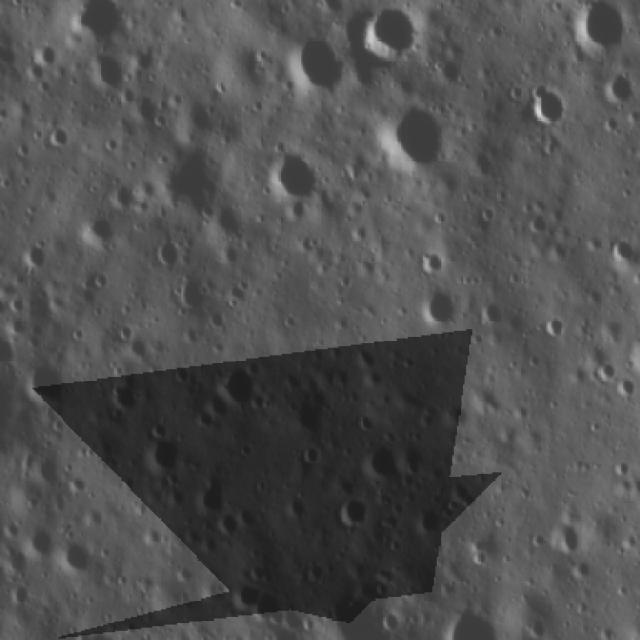crater: (144, 138, 233, 218), (372, 100, 451, 180), (258, 140, 330, 206), (359, 4, 430, 67), (284, 36, 353, 96), (210, 38, 265, 112), (568, 0, 630, 57), (22, 356, 78, 415), (523, 74, 579, 132), (70, 2, 139, 43), (210, 358, 262, 412), (138, 431, 190, 482), (82, 50, 136, 96), (277, 387, 325, 438), (416, 286, 462, 332), (105, 377, 153, 420), (357, 442, 406, 484), (252, 584, 294, 633), (191, 470, 231, 521), (54, 533, 94, 584), (328, 490, 370, 536), (20, 519, 58, 564), (78, 215, 119, 256), (445, 470, 480, 518), (167, 270, 207, 312), (146, 236, 191, 273), (543, 520, 582, 562), (351, 568, 394, 606), (598, 67, 636, 107), (408, 497, 442, 540), (15, 240, 52, 277), (598, 231, 637, 266), (35, 448, 67, 490), (412, 243, 451, 277), (228, 576, 263, 613), (125, 41, 158, 79), (470, 294, 502, 332), (28, 36, 60, 73), (42, 122, 80, 153), (538, 310, 570, 342), (375, 606, 408, 636), (298, 439, 322, 470), (287, 193, 308, 225), (100, 128, 120, 160), (90, 267, 112, 293)
